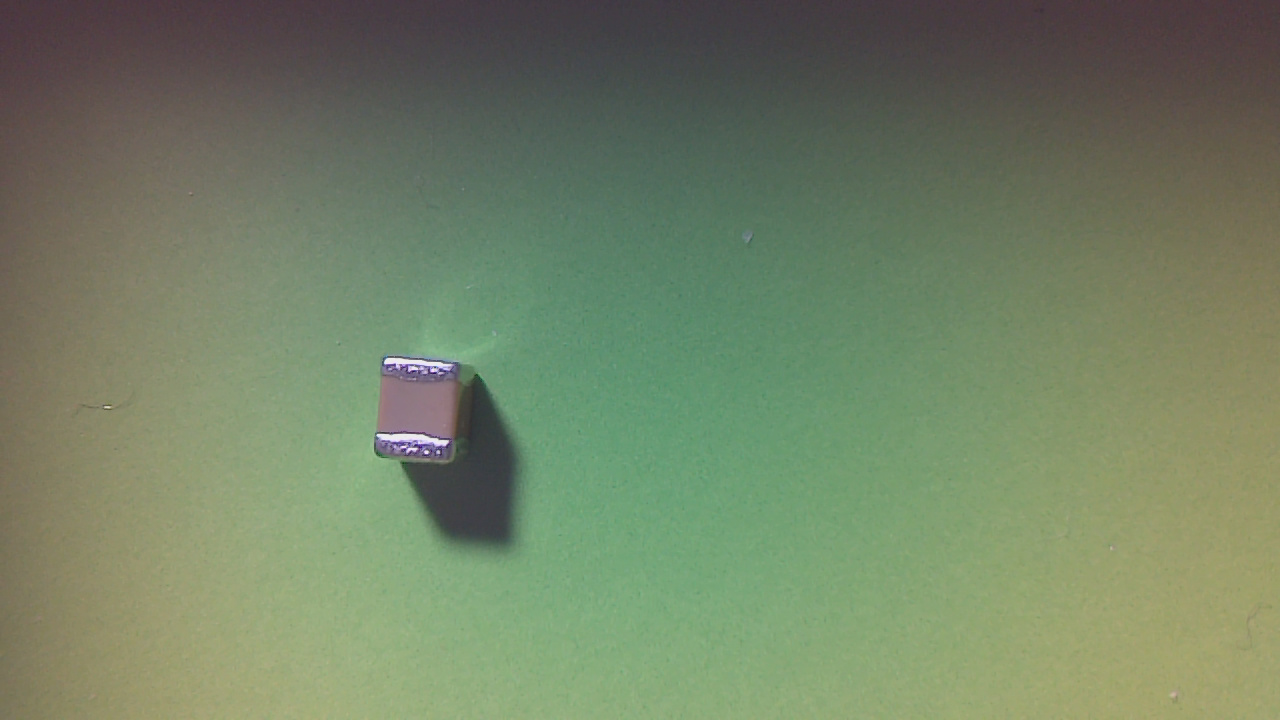Condensator: (377, 356, 468, 471)
